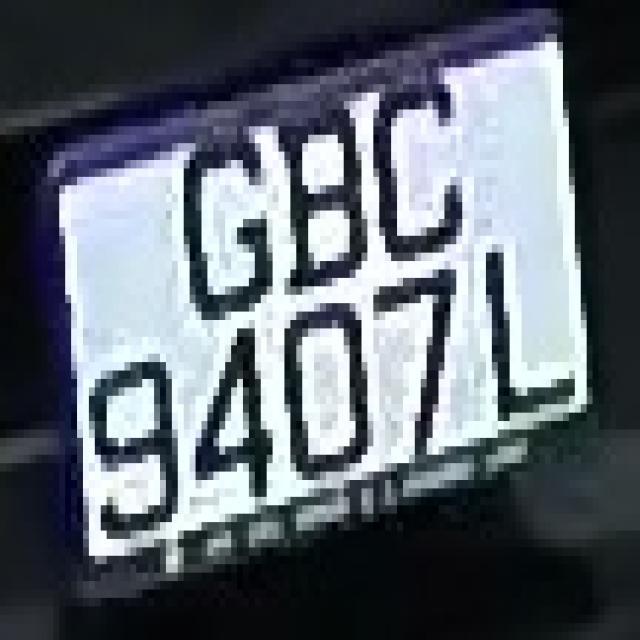0: (261, 286, 385, 480)
4: (184, 303, 284, 522)
7: (373, 253, 474, 472)
9: (77, 345, 196, 564)
B: (255, 76, 379, 320)
C: (356, 42, 468, 261)
G: (154, 101, 279, 328)
L: (462, 210, 587, 430)
